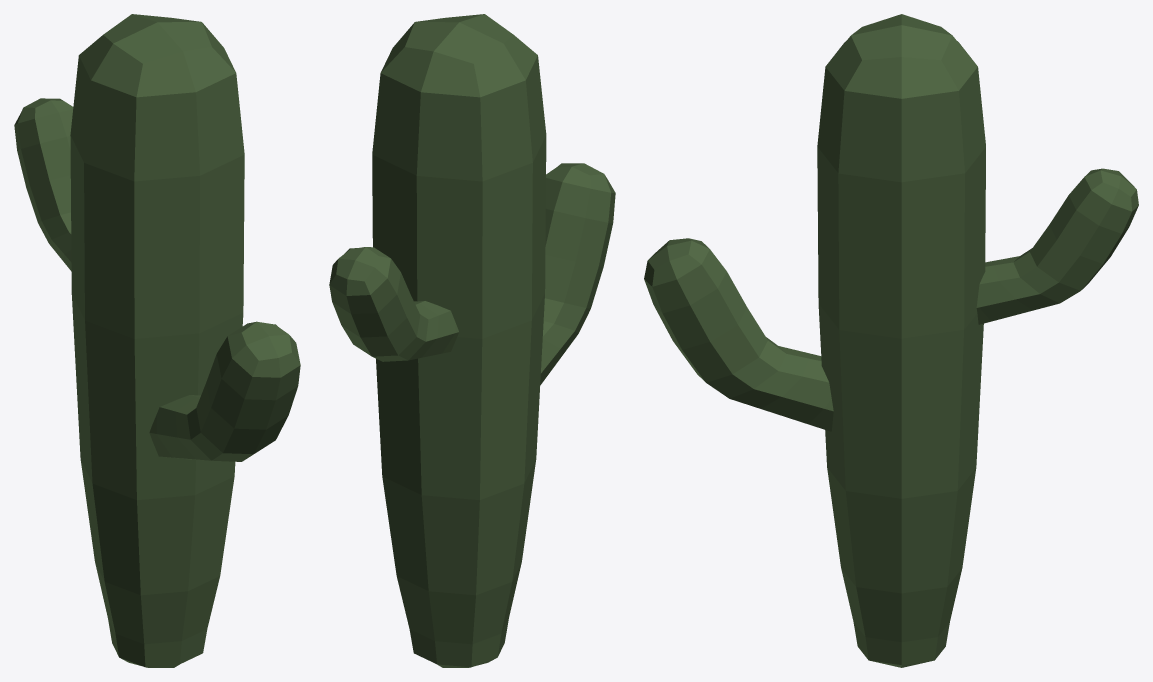
Rendered from Cactus_3.gltf.
3 views of the same model, side by side, from view 1: azimuth 30°, elevation 25°; view 2: azimuth 150°, elevation 25°; view 3: azimuth 270°, elevation 25° (orthographic).
Parts seen in each view (by area): view 1: Cactus_3; view 2: Cactus_3; view 3: Cactus_3.
Boxes of the visible parts, x1,y1,x2,y2 form: Cactus_3: (14, 14, 300, 667); Cactus_3: (329, 14, 615, 667); Cactus_3: (644, 14, 1138, 667).
Size of the model in its own units: 0.3418 by 1.41 by 1.
